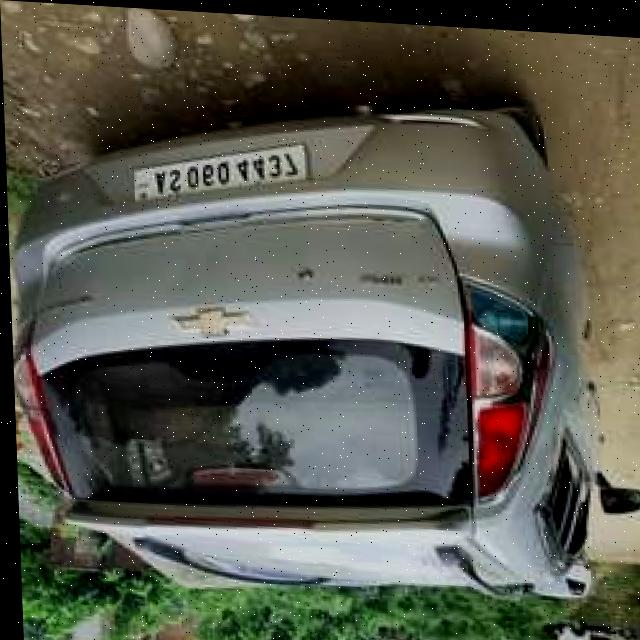plate: (127, 128, 310, 210)
